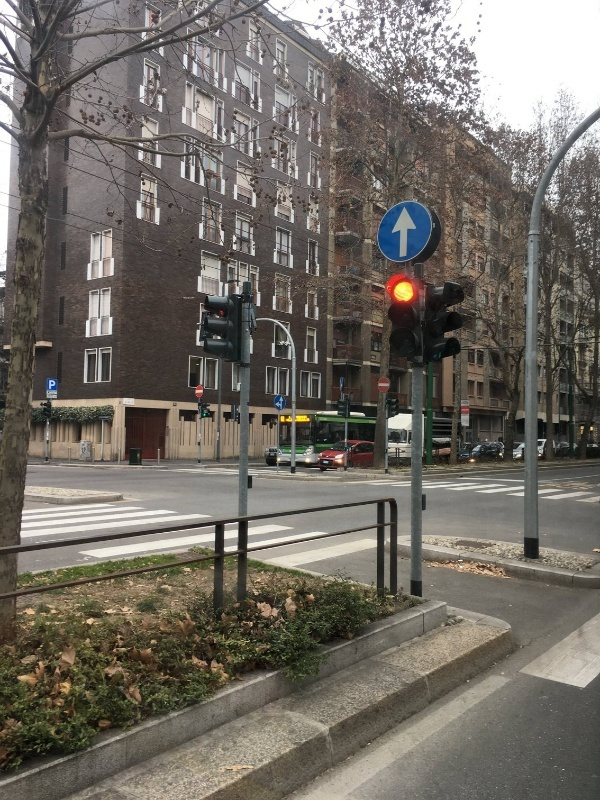text: (49, 380, 64, 390), (295, 415, 304, 424), (280, 415, 288, 424), (305, 415, 311, 424), (289, 415, 293, 424)
